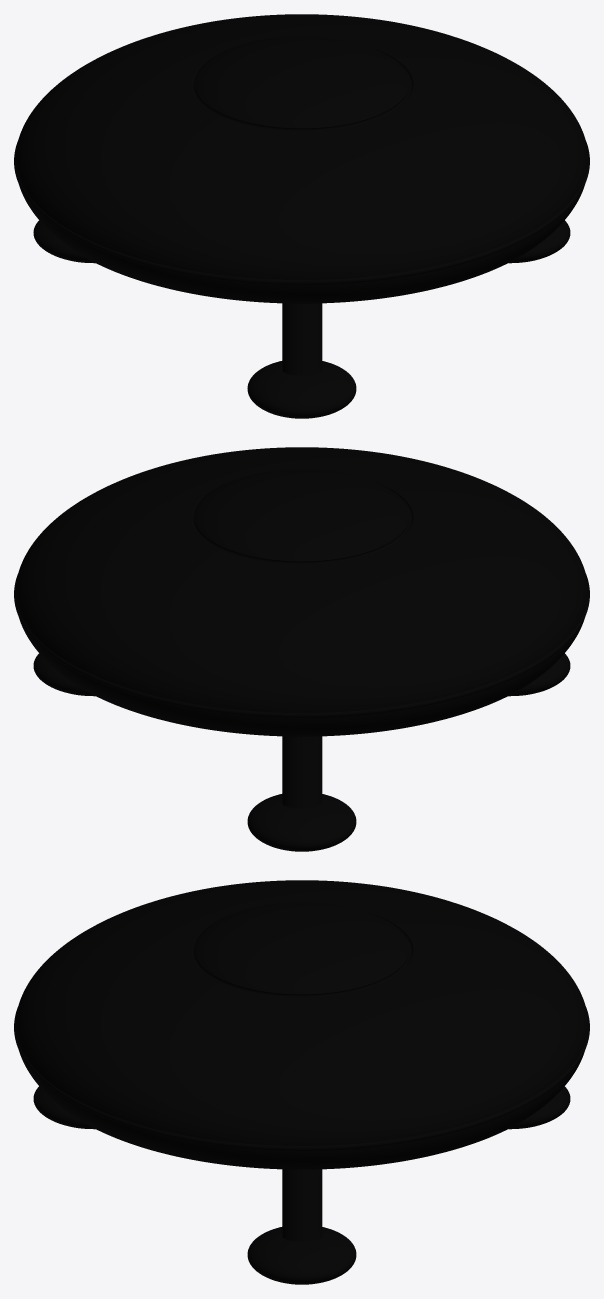
Rendered from asset.glb.
3 views of the same model, one above another, from view 1: azimuth 30°, elevation 25°; view 2: azimuth 150°, elevation 25°; view 3: azimuth 270°, elevation 25° (orthographic).
Visible parts, largest first — view 1: node_id5.3; view 2: node_id5.3; view 3: node_id5.3.
Part boxes in pixels (<box>): node_id5.3: <box>14,14,589,418</box>; node_id5.3: <box>14,447,589,851</box>; node_id5.3: <box>14,880,589,1284</box>.
Bounding box in the file's own units: 0.2828 × 0.126 × 0.276.
Materials: 1 (1 with a texture image).
